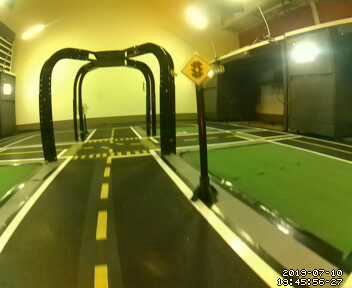Traffic light sign: (180, 55, 213, 86)
